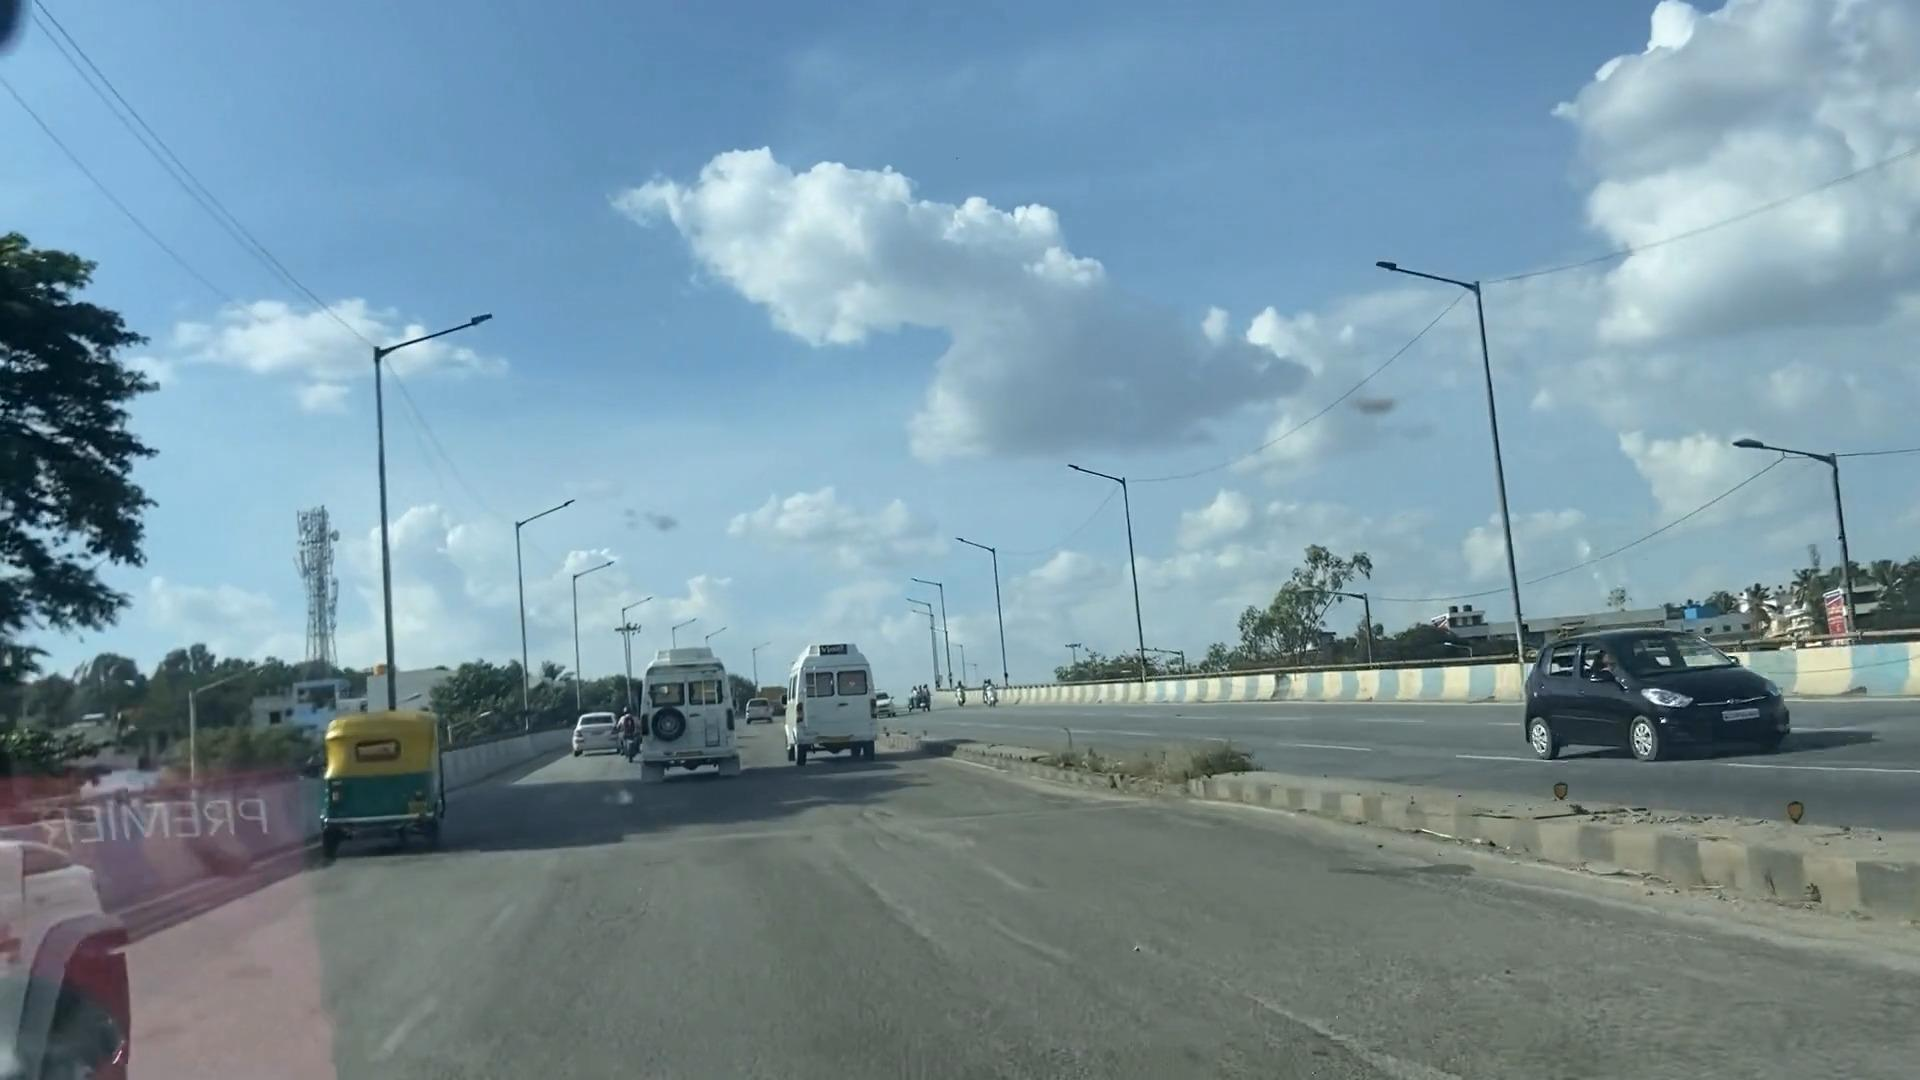HMV: (616, 648, 731, 768), (790, 626, 879, 770)
LMV: (290, 700, 451, 837)
RoadDamages: (790, 770, 1415, 1080), (540, 786, 1011, 856)
